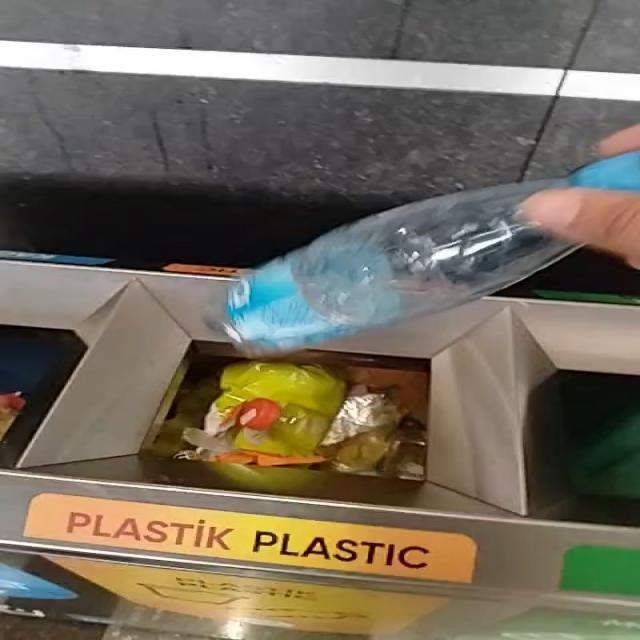Plastic: (225, 152, 640, 355)
